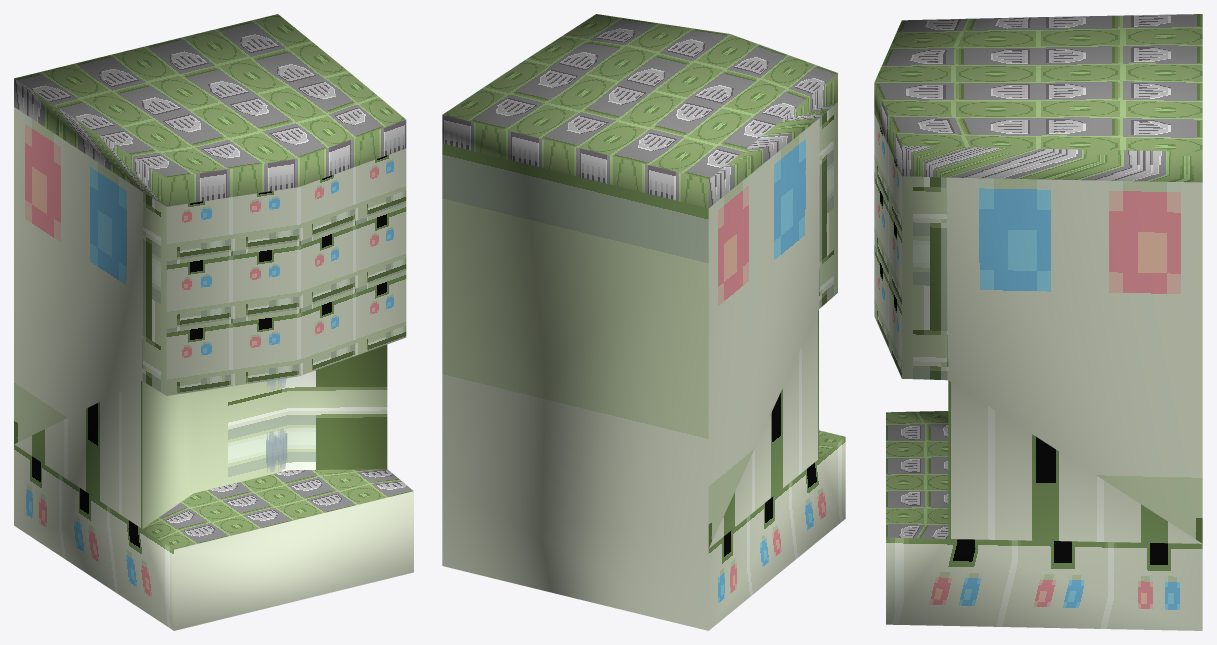
3 renders of one model, left to right at view 1: azimuth 30°, elevation 25°; view 2: azimuth 150°, elevation 25°; view 3: azimuth 270°, elevation 25°, orthographic. The views are drawn at different scales.
Visible parts, largest first — view 1: 3755kg_sh0_02; view 2: 3755kg_sh0_02; view 3: 3755kg_sh0_02.
Part boxes in pixels (left/top/right/bottom): 3755kg_sh0_02: left=14, top=14, right=413, bottom=630; 3755kg_sh0_02: left=442, top=14, right=845, bottom=630; 3755kg_sh0_02: left=874, top=14, right=1202, bottom=630.
Size of the model in its own units: 0.5919 by 0.9588 by 0.5958.
Materials: 3 (3 with a texture image).
